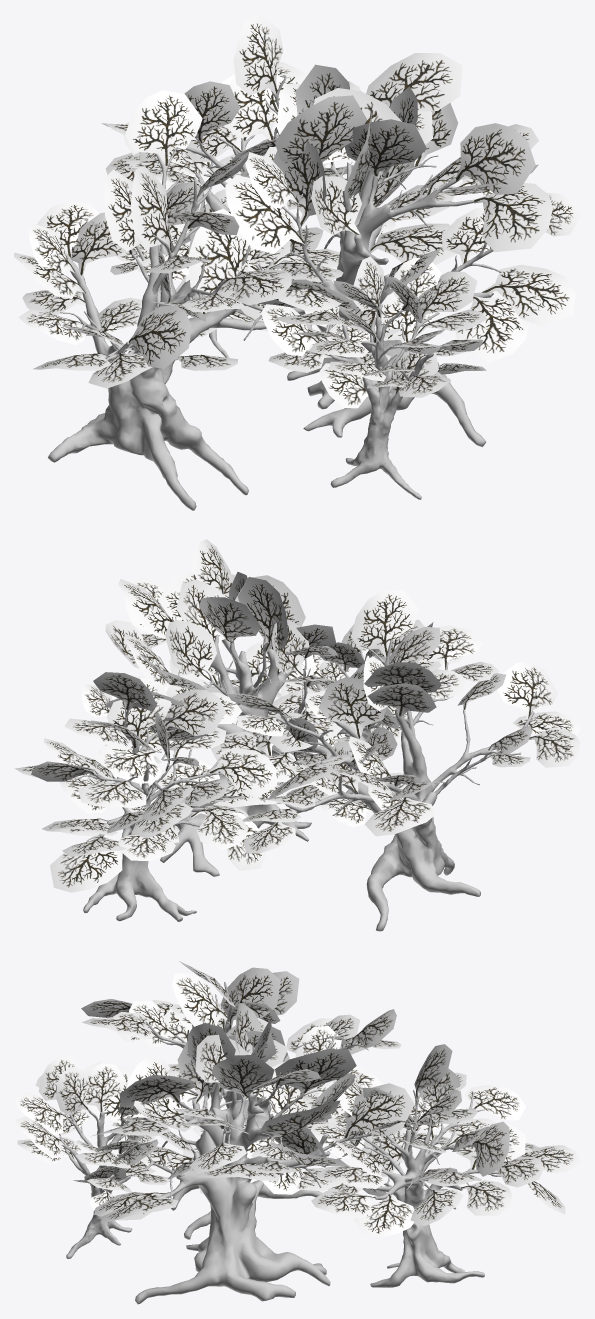
Rendered from gnarlytrees.fbx.
3 views of the same model, one above another, from view 1: azimuth 30°, elevation 25°; view 2: azimuth 150°, elevation 25°; view 3: azimuth 270°, elevation 25° (orthographic). The views are drawn at different scales.
Parts seen in each view (by area): view 1: branches_4, branches, branches_2, tree4, branches_3, tree1, tree3, tree2; view 2: branches, branches_3, branches_4, tree4, tree1, tree2, branches_2; view 3: branches_4, branches_3, branches, tree1, branches_2, tree2, tree4, tree3.
Boxes of the visible parts, x1,y1,x2,y2 form: branches_4: [188, 53, 580, 362]; branches: [14, 90, 343, 388]; branches_2: [261, 256, 487, 408]; tree4: [48, 147, 303, 510]; branches_3: [101, 14, 395, 315]; tree1: [212, 103, 501, 447]; tree3: [330, 296, 442, 499]; tree2: [183, 77, 312, 357]; branches: [211, 590, 580, 853]; branches_3: [14, 672, 276, 892]; branches_4: [103, 539, 441, 807]; tree4: [262, 639, 534, 931]; tree1: [150, 616, 394, 876]; tree2: [75, 701, 222, 922]; branches_2: [281, 619, 463, 746]; branches_4: [84, 1003, 414, 1223]; branches_3: [302, 1044, 580, 1237]; branches: [81, 961, 415, 1194]; tree1: [132, 1038, 381, 1304]; branches_2: [14, 1056, 169, 1215]; tree2: [362, 1089, 530, 1287]; tree4: [146, 982, 368, 1239]; tree3: [56, 1086, 132, 1258].
Size of the model in its own units: 3720 by 2397 by 4381.
